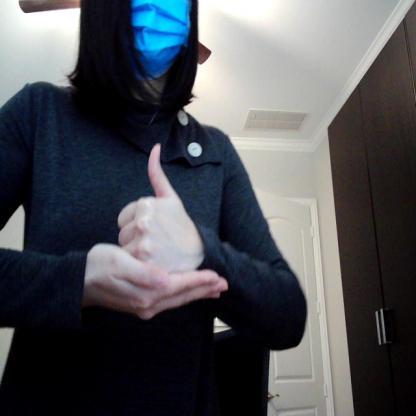help: (87, 142, 230, 326)
